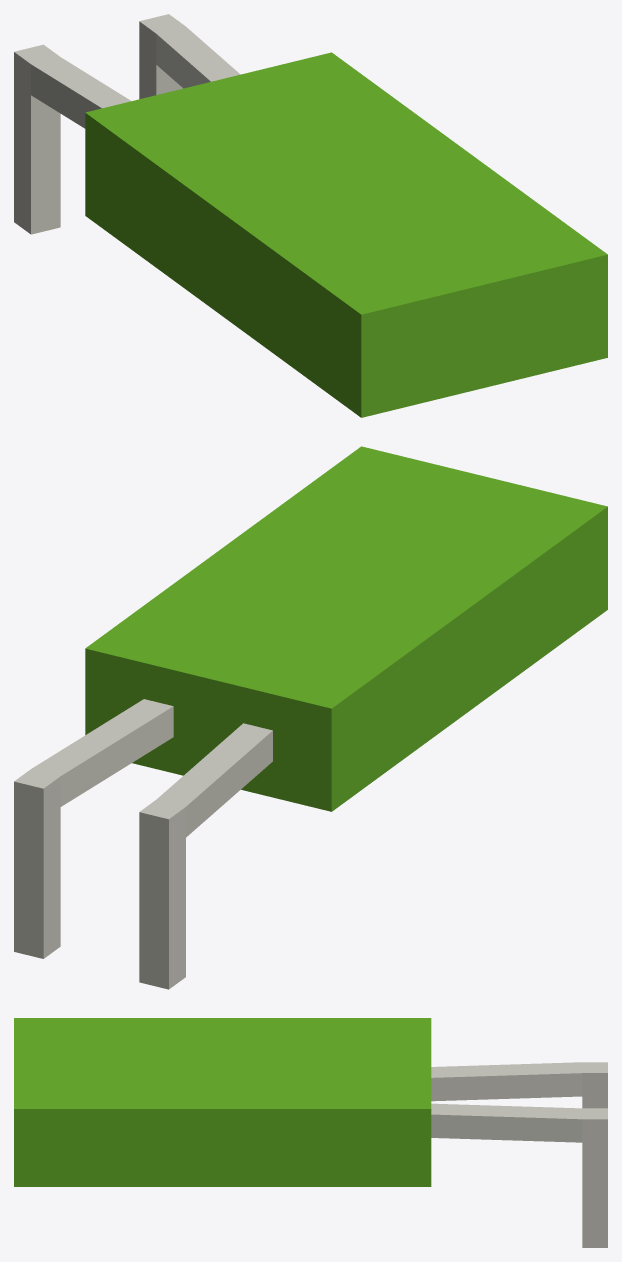
The model's file is kc-led_rectangular_w5.0mm_h2.0mm_horizontal_o3.81mm_z1.0mm.glb.
3 renders of one model, top to bottom at view 1: azimuth 30°, elevation 25°; view 2: azimuth 150°, elevation 25°; view 3: azimuth 270°, elevation 25°, orthographic. The views are drawn at different scales.
Parts seen in each view (by area): view 1: 0.16666666666666666_0.4166666666666667_0_0, 0.6666666666666666_0.6666666666666666_0.5833333333333334_0.8; view 2: 0.16666666666666666_0.4166666666666667_0_0, 0.6666666666666666_0.6666666666666666_0.5833333333333334_0.8; view 3: 0.16666666666666666_0.4166666666666667_0_0, 0.6666666666666666_0.6666666666666666_0.5833333333333334_0.8.
Boxes of the visible parts, x1,y1,x2,y2 form: 0.16666666666666666_0.4166666666666667_0_0: (85,52,607,417); 0.6666666666666666_0.6666666666666666_0.5833333333333334_0.8: (14,14,240,234); 0.16666666666666666_0.4166666666666667_0_0: (85,446,607,811); 0.6666666666666666_0.6666666666666666_0.5833333333333334_0.8: (14,699,272,989); 0.16666666666666666_0.4166666666666667_0_0: (14,1018,431,1186); 0.6666666666666666_0.6666666666666666_0.5833333333333334_0.8: (431,1062,607,1247).
Bounding box in the file's own units: 0.5 × 0.4 × 1.38.
